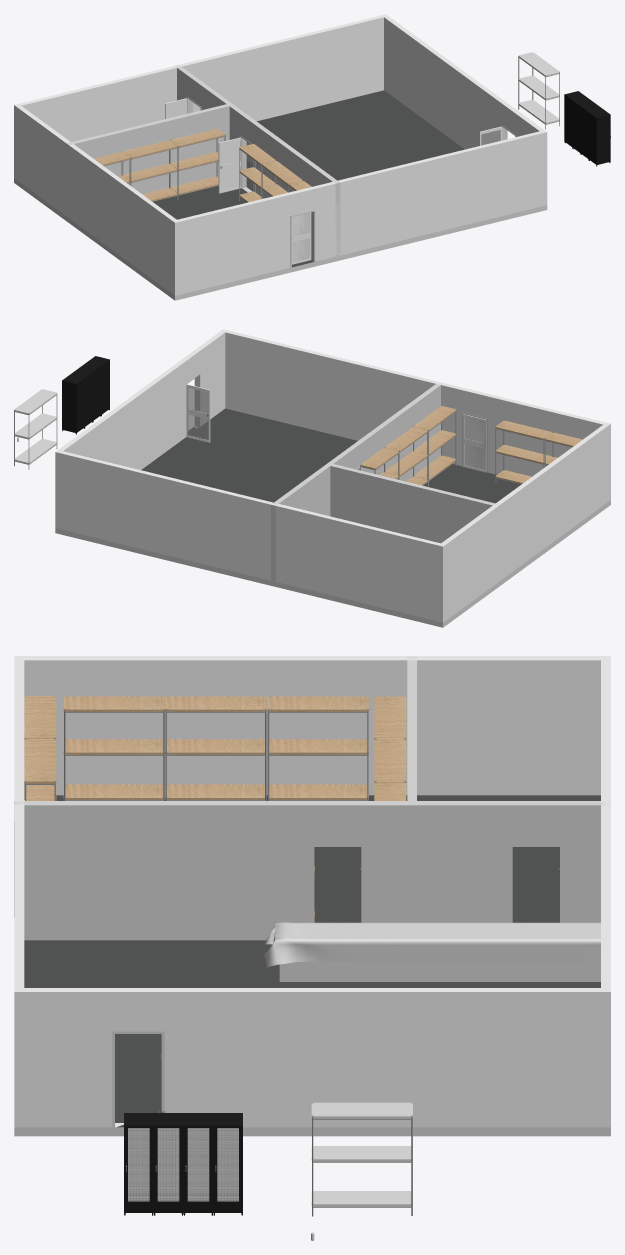
The model's file is sklep.glb.
The picture shows the model from 3 angles, top to bottom: view 1: azimuth 30°, elevation 25°; view 2: azimuth 150°, elevation 25°; view 3: azimuth 270°, elevation 25°; orthographic projection. The views are drawn at different scales.
Parts seen in each view (by area): view 1: Cube.001, Cube, Cube.006, Cube.016, Cube.011, Cube.005, Cube.022, Cylinder.012, Cylinder.013, Cylinder.001, Cylinder.011, Cube.008 (+7 smaller); view 2: Cube.001, Cube, Cube.006, Cube.005, Cube.011, Cube.016, Cylinder.010, Cylinder.019, Cube.022, Cylinder.003, Cylinder.009, Cube.008 (+8 smaller); view 3: Cube.001, Cube.016, Cube.005, Cube, Plane, Cube.011, Cube.022, Cube.012, Cylinder.015, Cylinder.017, Cylinder.016, Cube.036 (+9 smaller).
Boxes of the visible parts, x1,y1,x2,y2 form: Cube.001: (14,14,547,295); Cube: (14,90,547,300); Cube.006: (67,103,229,194); Cube.016: (177,65,340,255); Cube.011: (564,91,610,166); Cube.005: (175,65,338,198); Cube.022: (564,91,610,165); Cylinder.012: (170,128,225,199); Cylinder.013: (122,140,177,201); Cylinder.001: (218,137,241,193); Cylinder.011: (239,144,275,202); Cube.008: (292,212,311,264); Cube.001: (55,329,610,622); Cube: (55,408,610,627); Cube.006: (327,463,498,543); Cube.005: (272,383,442,507); Cube.011: (62,356,109,434); Cube.016: (271,384,437,581); Cylinder.010: (413,406,456,486); Cylinder.019: (495,420,552,484); Cube.022: (62,356,109,433); Cylinder.003: (186,384,210,442); Cylinder.009: (384,427,428,486); Cube.008: (463,414,486,472); Cube.001: (14,656,610,1127); Cube.016: (14,801,609,940); Cube.005: (16,801,605,940); Cube: (14,795,610,1136); Plane: (264,922,600,968); Cube.011: (124,1113,242,1215); Cube.022: (124,1113,242,1215); Cube.012: (279,961,600,981); Cylinder.015: (267,696,368,800); Cylinder.017: (63,696,165,800); Cylinder.016: (165,696,266,800); Cube.036: (128,1128,238,1200).
Size of the model in its own units: 21.03 by 3.2 by 12.01.
27 materials, 1 textured.
